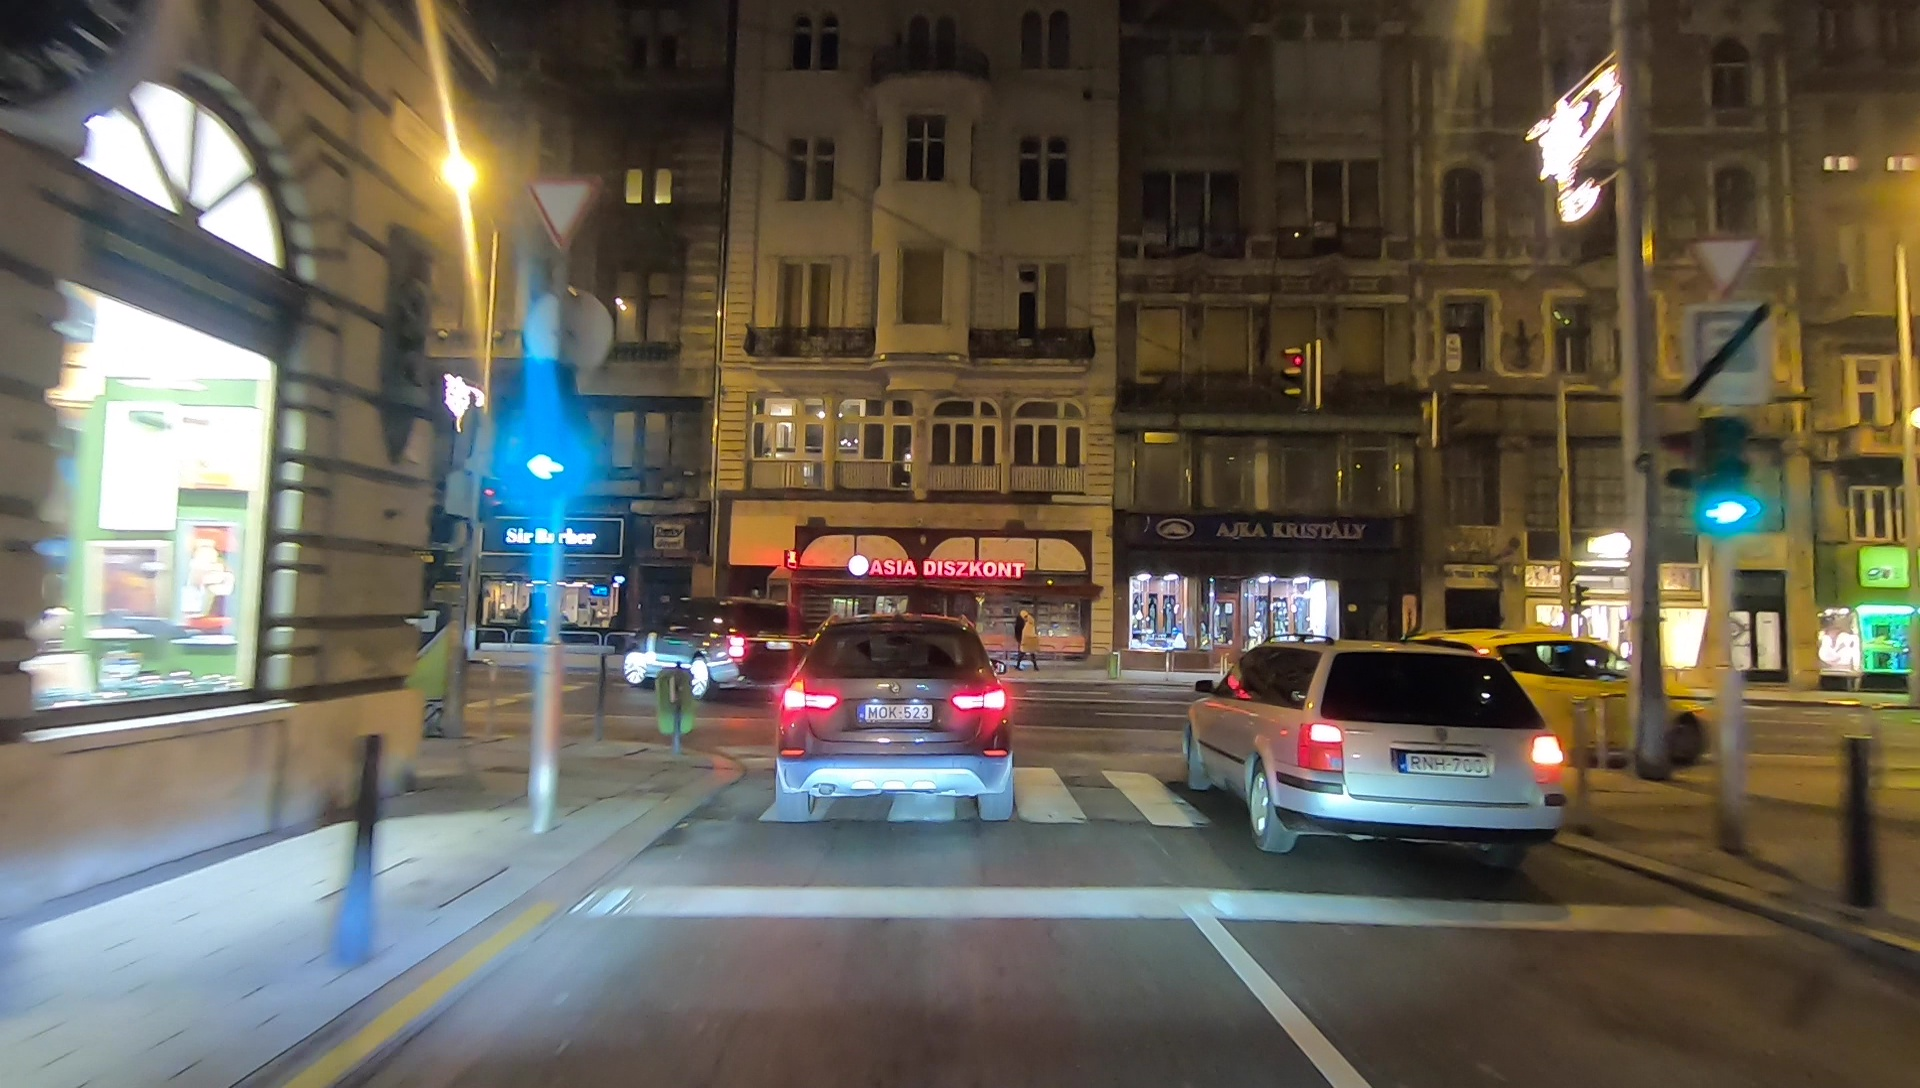person: (1013, 610, 1042, 673)
